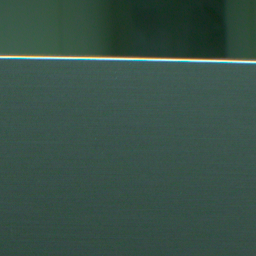con: (11, 187, 49, 232), (83, 133, 111, 163)
